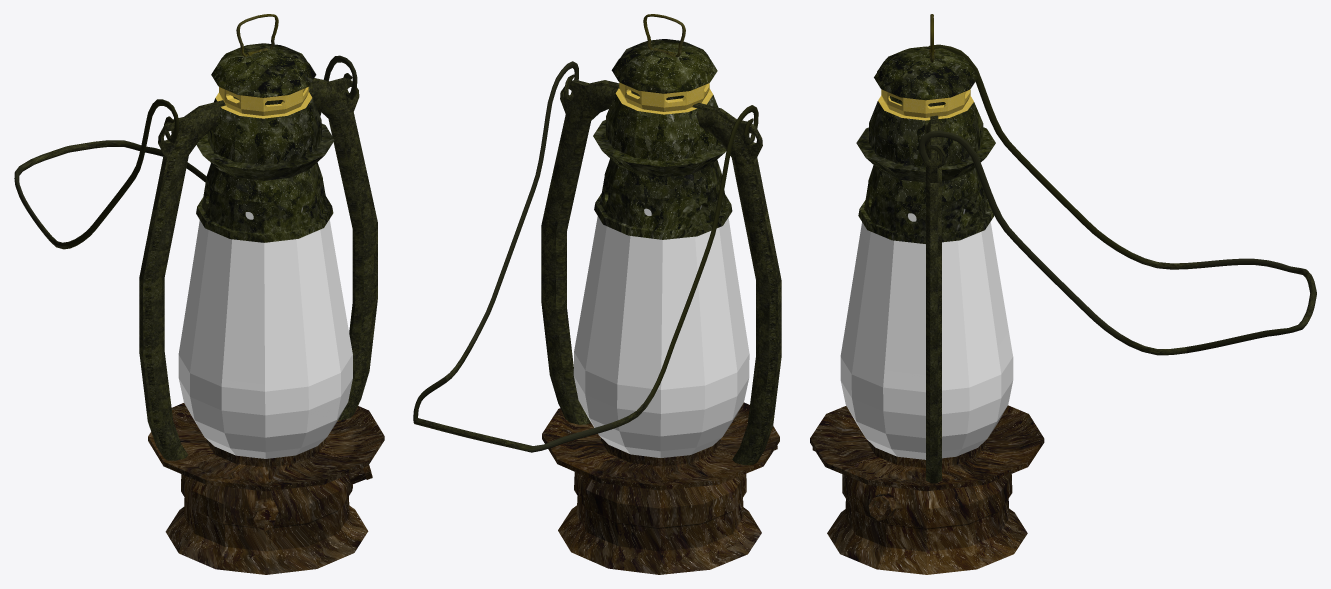
The model's file is Lantern.glb.
3 views of the same model, side by side, from view 1: azimuth 30°, elevation 25°; view 2: azimuth 150°, elevation 25°; view 3: azimuth 270°, elevation 25° (orthographic).
Visible parts, largest first — view 1: Lantern; view 2: Lantern; view 3: Lantern.
Part boxes in pixels (x1,y1,x2,y2): Lantern: (14, 14, 384, 574); Lantern: (413, 14, 781, 574); Lantern: (810, 14, 1316, 574).
Bounding box in the file's own units: 1.58 × 3.32 × 2.98.
6 materials, 5 textured.
